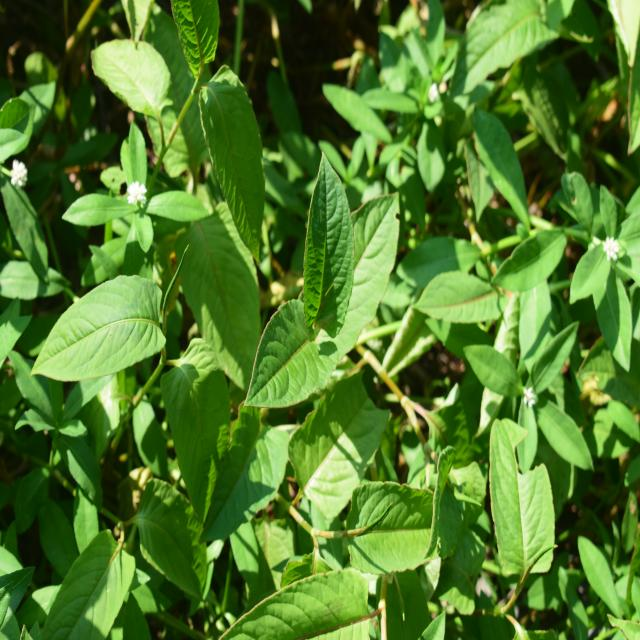Chinese_knotweed: (231, 132, 420, 430), (68, 245, 252, 504)
